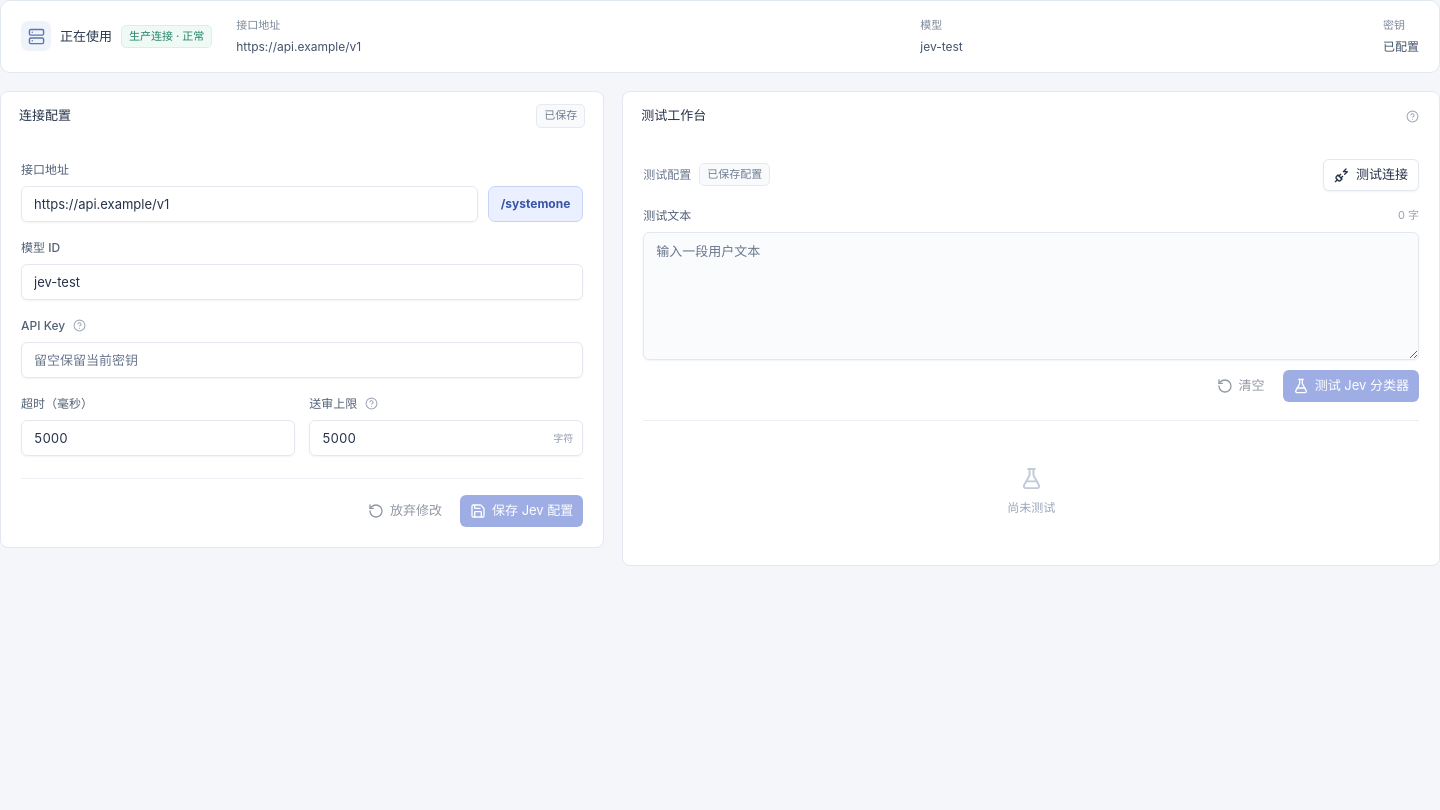
Test case: keeps the saved connection separate from a successful draft test
This screenshot has width=1440, height=810.
Replace the text in the field labelled "模型 ID" with "jev-draft" at (302, 282), box [21,264,583,300]
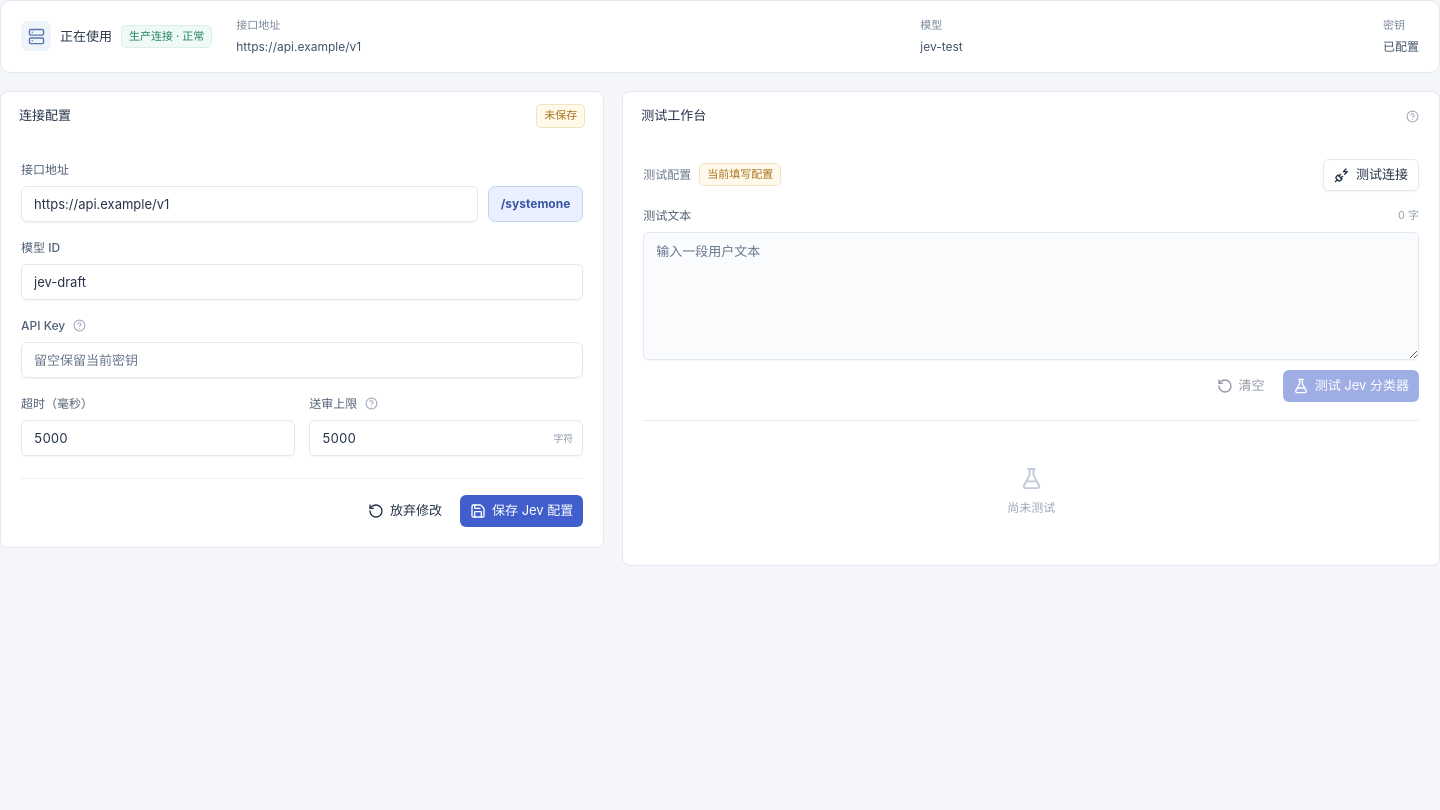
Click the button "测试连接" at (1371, 174), box [1323,158,1419,190]
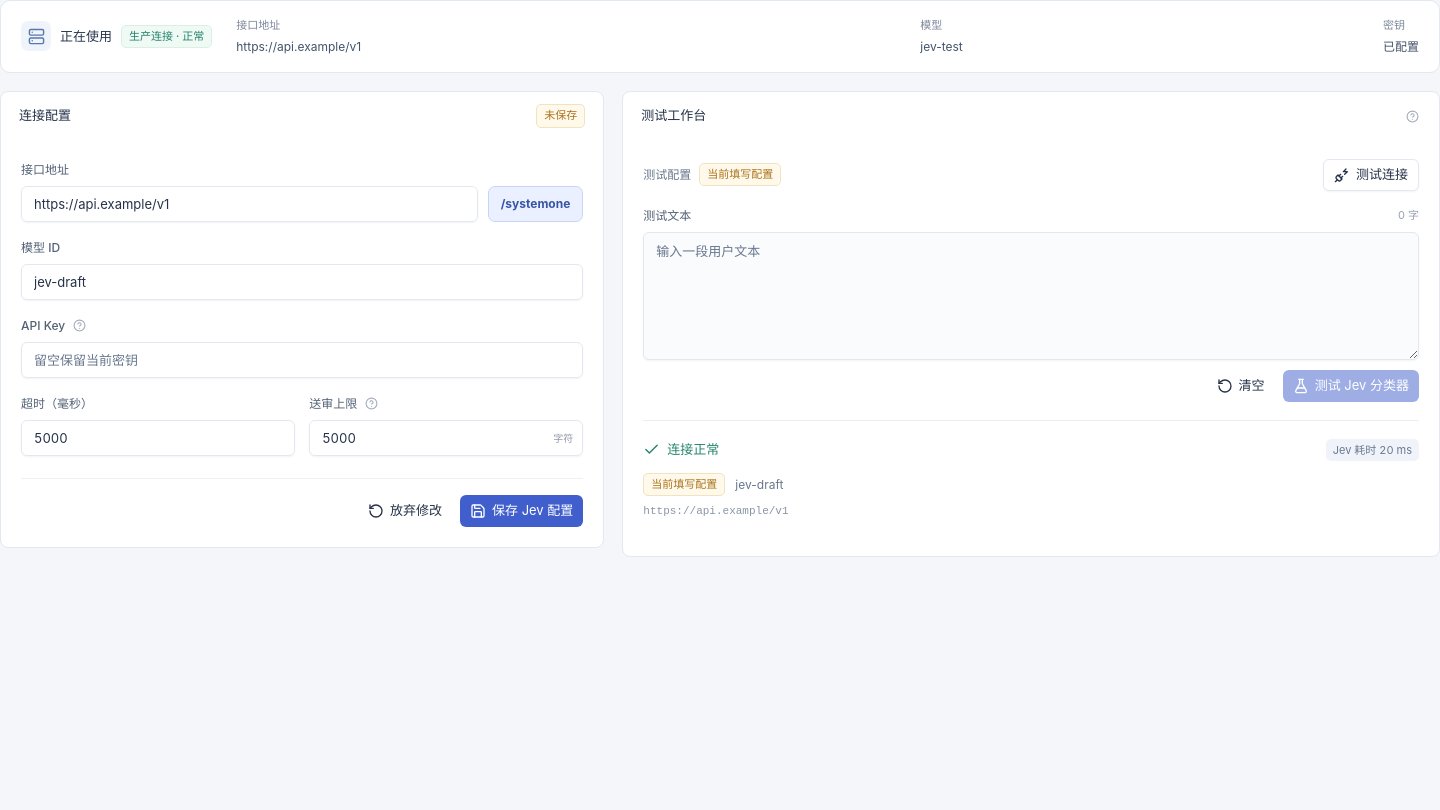
expect the text "连接正常" is shown: met, box [667,440,719,460]
expect the text "当前填写配置" next to "jev-draft" is shown: met, box [651,477,717,491]
expect the text "jev-draft" is shown: met, box [735,476,783,494]
